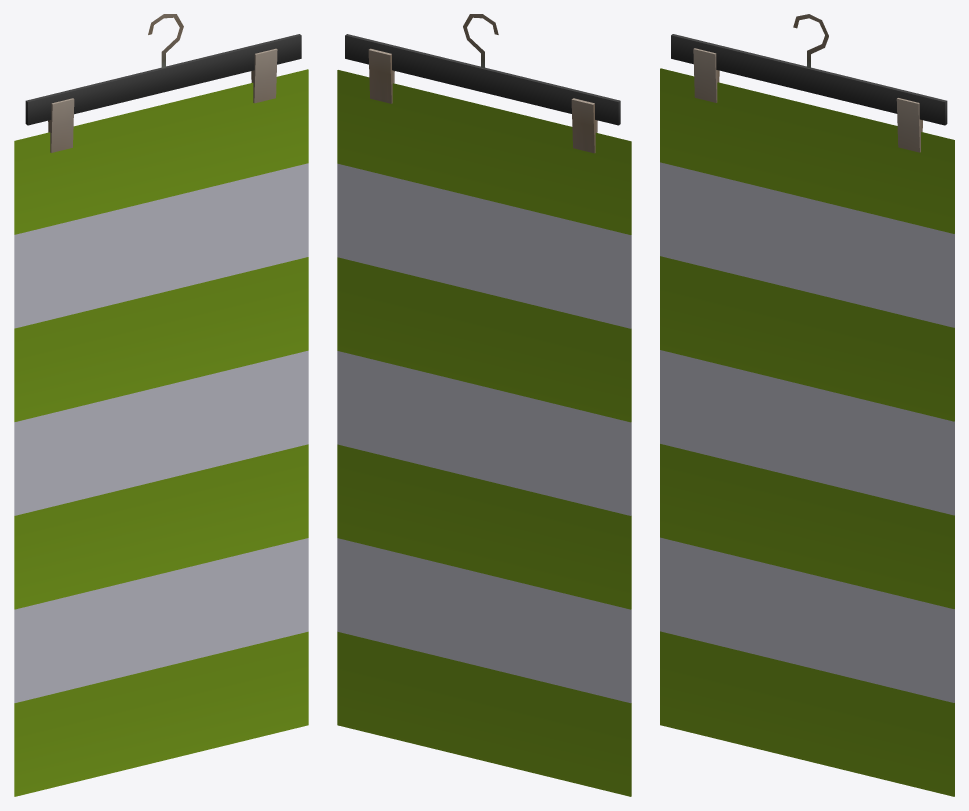
The model's file is Hang_Towel_04.FBX.
The picture shows the model from 3 angles, left to right: view 1: azimuth 30°, elevation 25°; view 2: azimuth 150°, elevation 25°; view 3: azimuth 330°, elevation 25°; orthographic projection.
Visible parts, largest first — view 1: Hang_Towel_04; view 2: Hang_Towel_04; view 3: Hang_Towel_04.
Part boxes in pixels (x1,y1,x2,y2): Hang_Towel_04: (14, 14, 308, 796); Hang_Towel_04: (337, 14, 631, 796); Hang_Towel_04: (660, 14, 954, 796).
Bounding box in the file's own units: 0.4782 × 0.0145 × 1.16.
